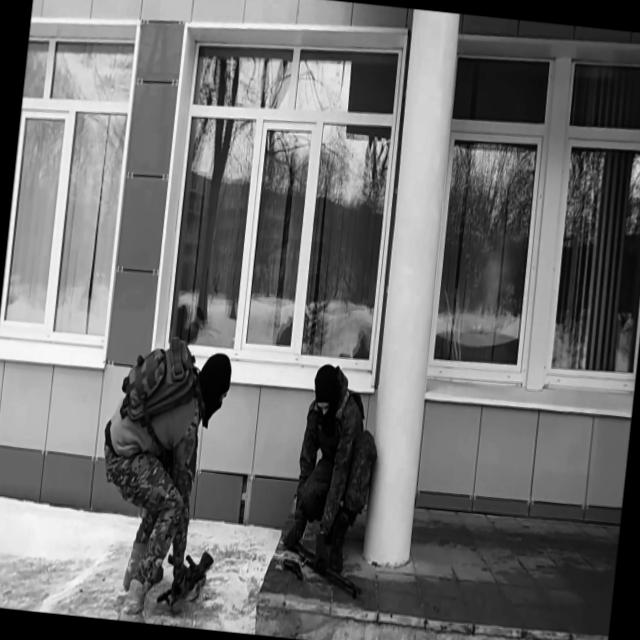gun: (279, 528, 369, 602), (156, 543, 214, 616), (281, 556, 306, 583)
person with a gun: (84, 326, 237, 630), (278, 356, 387, 602)
